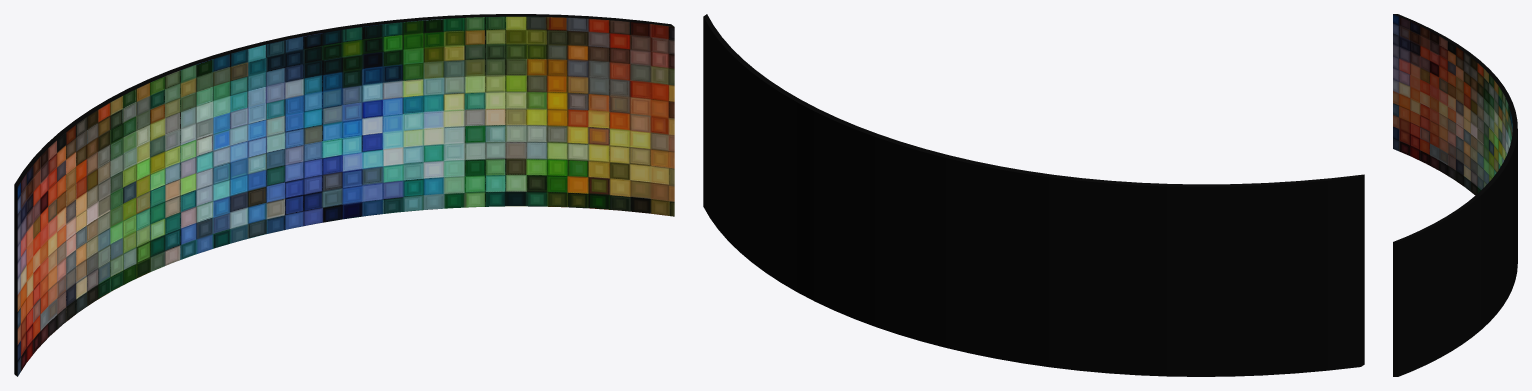
The model's file is arc_screen.fbx.
3 renders of one model, left to right at view 1: azimuth 30°, elevation 25°; view 2: azimuth 150°, elevation 25°; view 3: azimuth 270°, elevation 25°, orthographic. The views are drawn at different scales.
Parts seen in each view (by area): view 1: Layer 1.001; view 2: Layer 1.001; view 3: Layer 1.001.
Boxes of the visible parts, x1,y1,x2,y2 form: Layer 1.001: (14, 14, 674, 376); Layer 1.001: (703, 14, 1364, 376); Layer 1.001: (1393, 14, 1517, 376).
Bounding box in the file's own units: 10147 × 2800 × 2345.
Materials: 2 (1 with a texture image).
